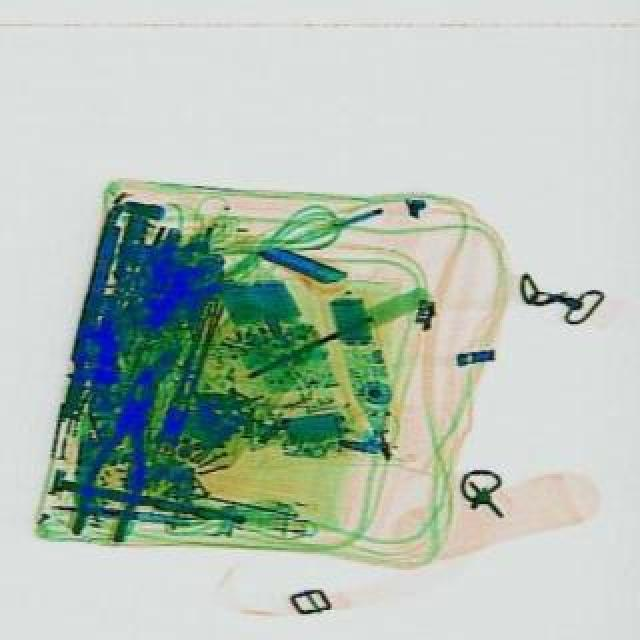wrench: (72, 362, 178, 546)
